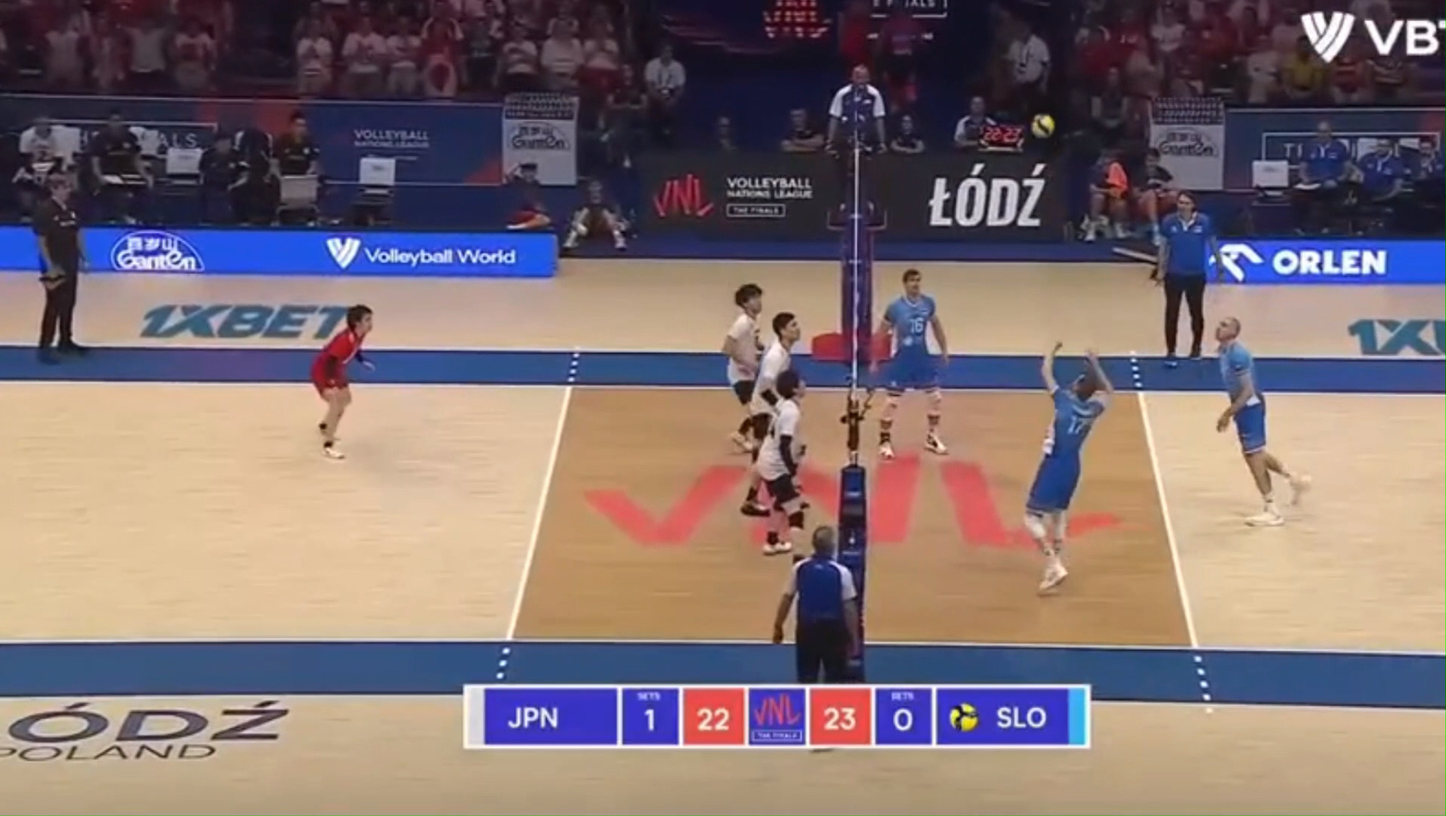ball: (1030, 113, 1055, 139)
player: (1024, 342, 1112, 593), (1216, 317, 1309, 526), (878, 269, 947, 459)
player 1: (740, 312, 800, 517), (753, 369, 805, 554), (311, 304, 373, 459), (722, 283, 763, 410), (731, 414, 761, 453)
referee: (773, 526, 860, 684), (1151, 191, 1218, 366), (825, 64, 887, 230), (32, 175, 86, 361)
